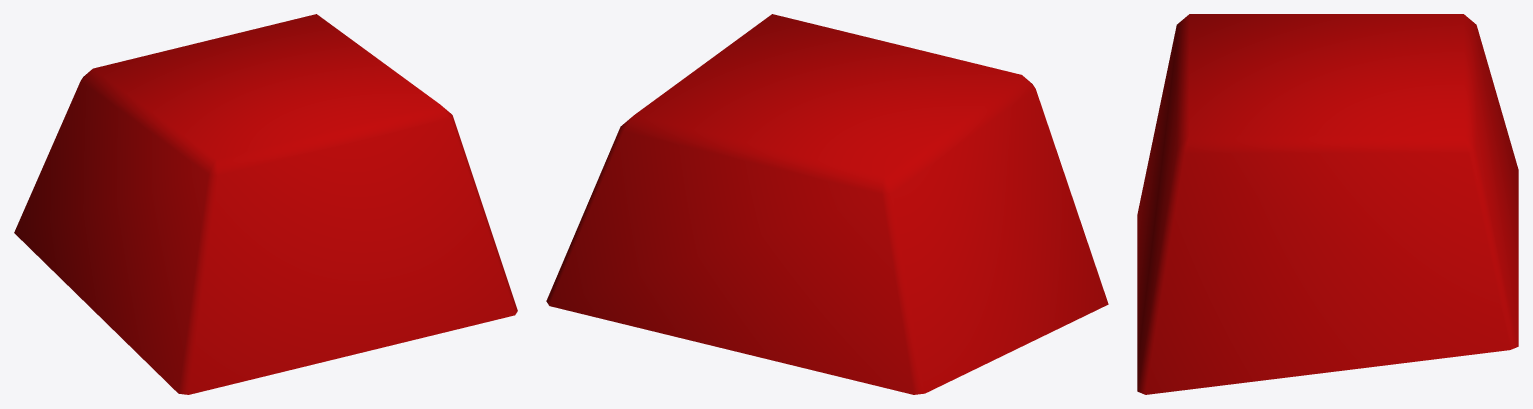
Rendered from AltCtrlPipe.fbx.
3 renders of one model, left to right at view 1: azimuth 30°, elevation 25°; view 2: azimuth 150°, elevation 25°; view 3: azimuth 270°, elevation 25°, orthographic. The views are drawn at different scales.
Visible parts, largest first — view 1: Empty_Mesh; view 2: Empty_Mesh; view 3: Empty_Mesh.
Part boxes in pixels (box(x1,y1,x2,y2)): Empty_Mesh: box(14, 14, 517, 394); Empty_Mesh: box(546, 14, 1108, 394); Empty_Mesh: box(1137, 14, 1518, 394).
Size of the model in its own units: 2.12 by 1.23 by 1.86.
